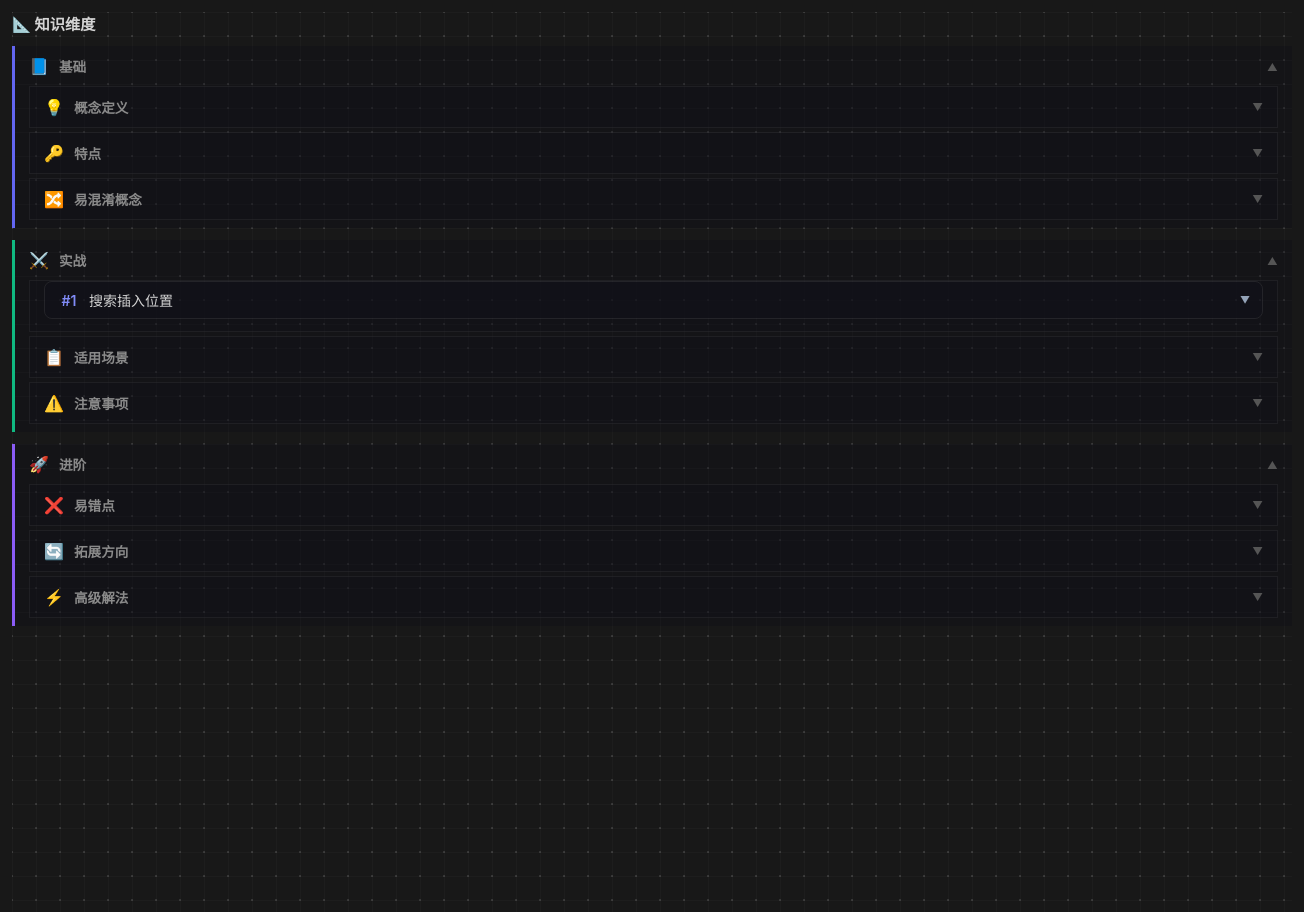
Test: DimensionSection › applicable_scenarios content is visible when expanded
Click the button "📋 适用场景 ▼" at (101, 358), box x1=30 y1=337 x2=1277 y2=377
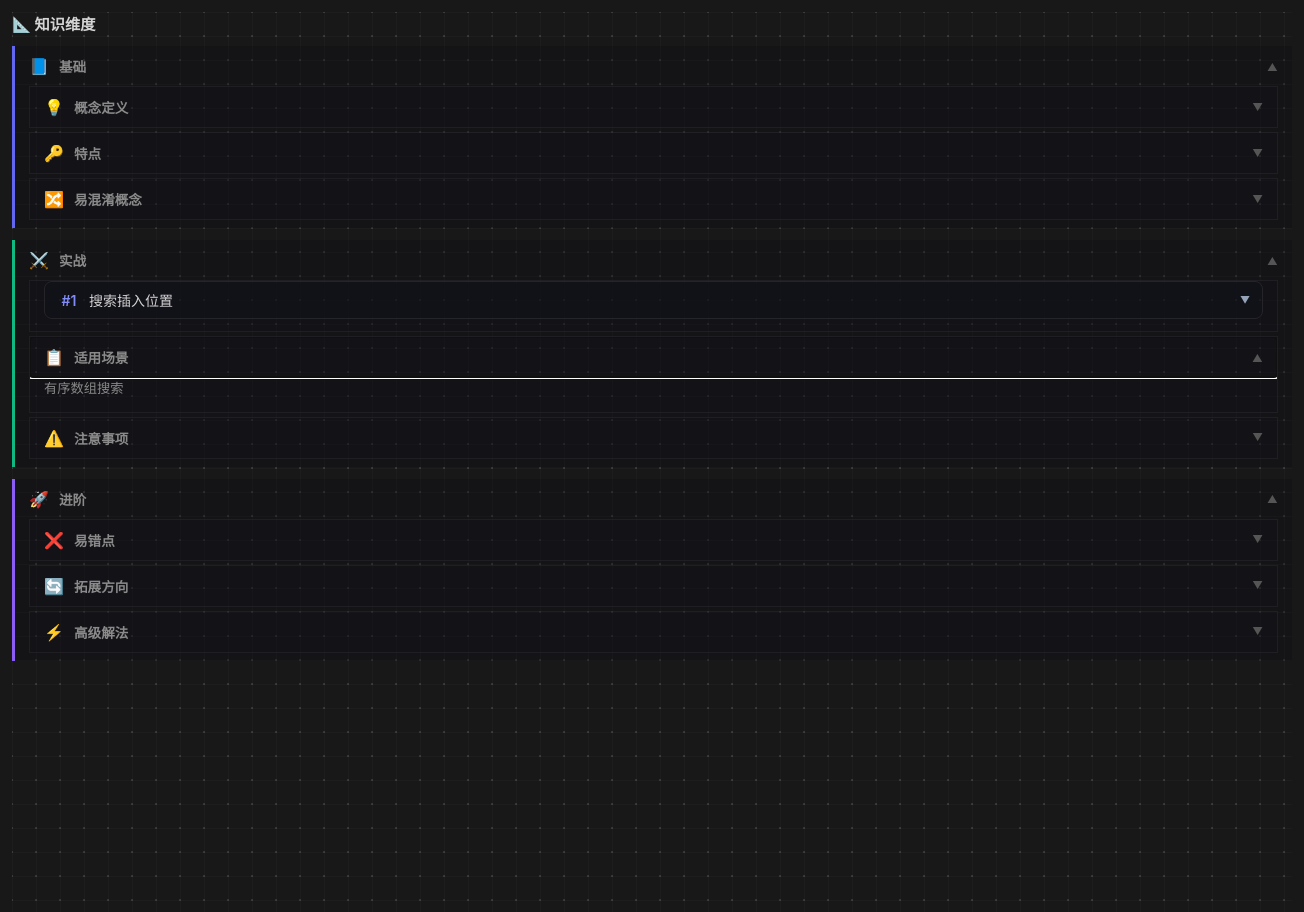
Expected: the text "有序数组搜索" is shown, x1=44 y1=380 x2=124 y2=396
